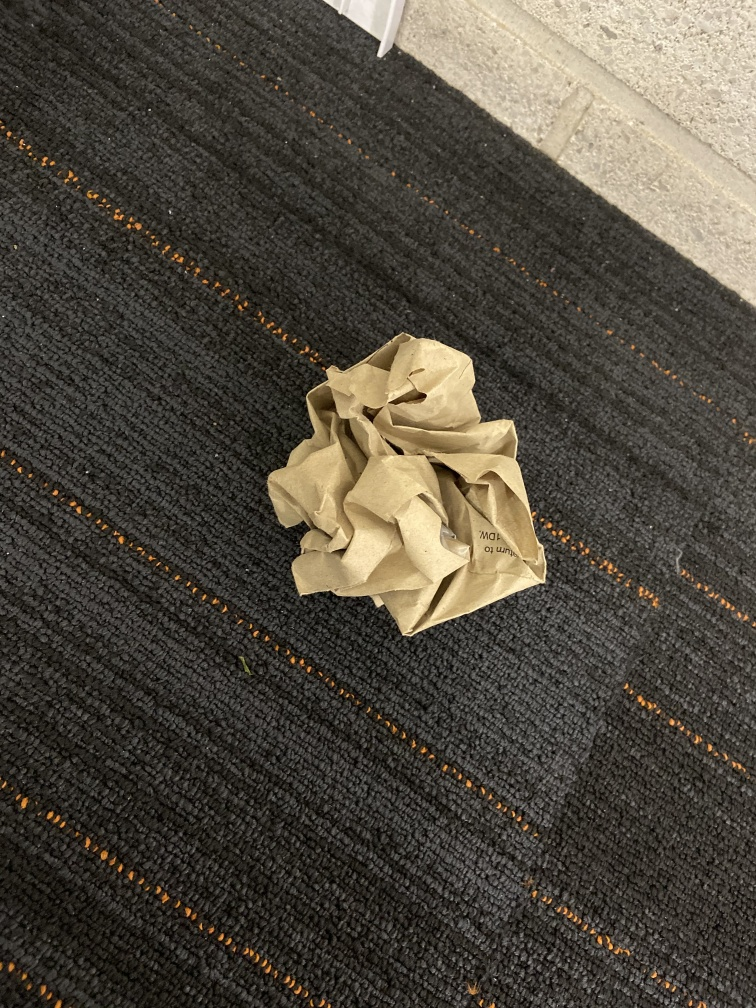paper_brown: (262, 329, 560, 642)
